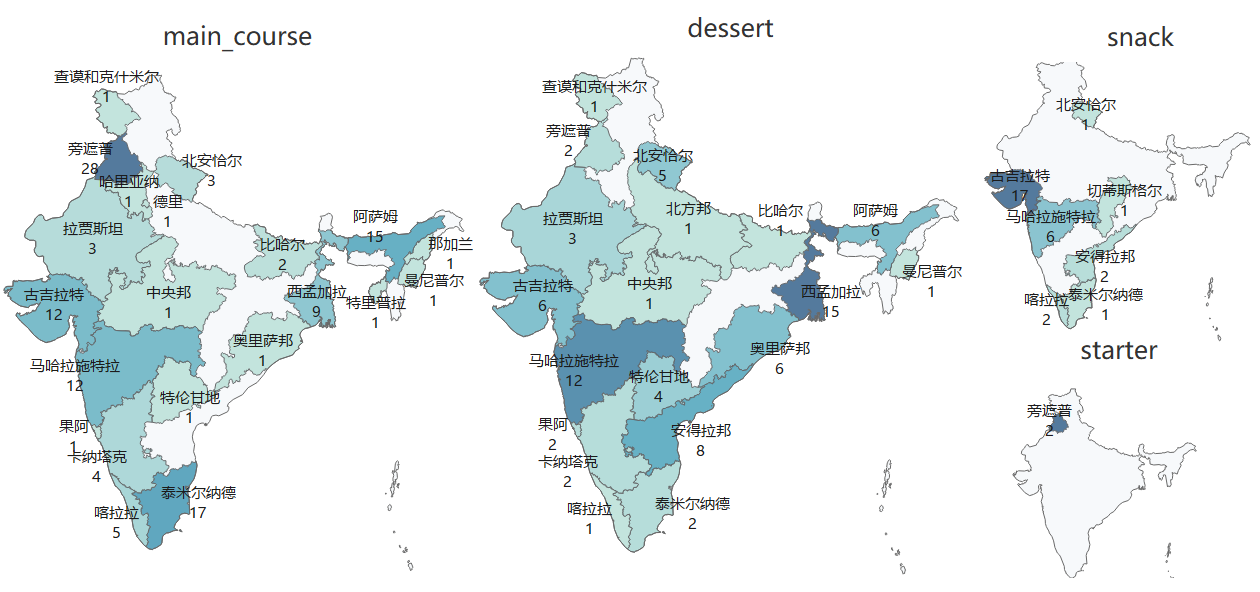

Layout of this report page (visuals, bound fields, positions):
{"tool":"tableau","page":{"name":"各州美食类型","canvas":[1000,1000],"units":"permille","ordinal":2},"visuals":[{"type":"worksheet","title":"dessert","mark":"Automatic","box":[287.3,5.8,307.2,902.4]},{"type":"worksheet","title":"main_course","mark":"Automatic","box":[0,15.1,286.7,902.4]},{"type":"worksheet","title":"snack","mark":"Automatic","box":[583,16.3,210.6,414.6]},{"type":"worksheet","title":"starter","mark":"Automatic","box":[570.3,379.8,210,291.5]}]}

Visuals, with their boxes on the dashboard's canvas, which has no fixed pixel size, in thousandths of its width and height (x1, y1, x2, y2). These are canvas units, not pixel positions in the 1260x592 screenshot, which may show the page scaled, cropped or inside an application window:
"dessert" worksheet: pyautogui.locateOnScreen(287, 6, 594, 908)
"main_course" worksheet: pyautogui.locateOnScreen(0, 15, 287, 918)
"snack" worksheet: pyautogui.locateOnScreen(583, 16, 794, 431)
"starter" worksheet: pyautogui.locateOnScreen(570, 380, 780, 671)
